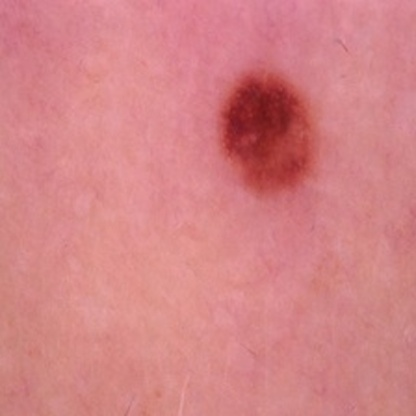benign: (212, 70, 325, 195)
